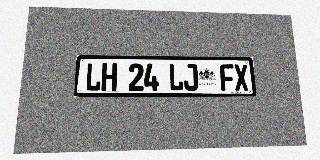2: (128, 63, 143, 91)
4: (144, 63, 159, 91)
F: (220, 64, 235, 91)
H: (101, 63, 117, 91)
J: (183, 64, 198, 91)
L: (85, 63, 102, 91), (169, 64, 183, 91)
X: (234, 64, 249, 91)
